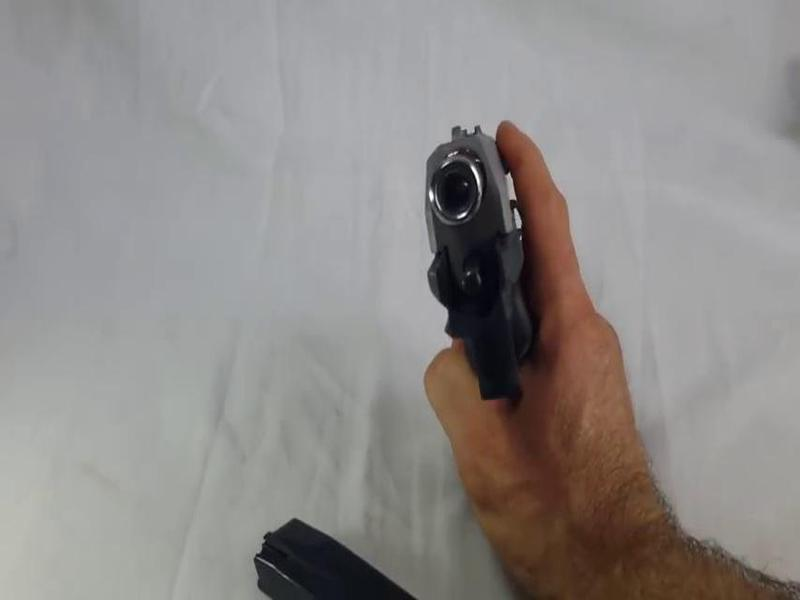Pistola: (382, 90, 593, 449)
